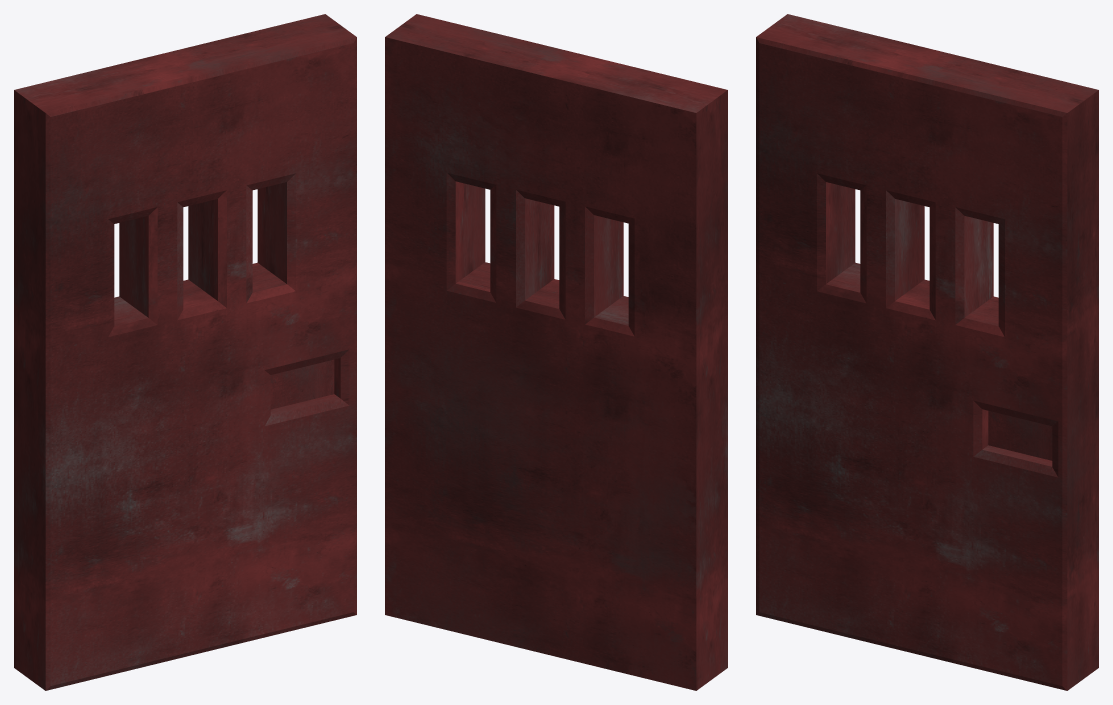
File: Dark_RedDoor.fbx
3 renders of one model, left to right at view 1: azimuth 30°, elevation 25°; view 2: azimuth 150°, elevation 25°; view 3: azimuth 330°, elevation 25°, orthographic.
Parts seen in each view (by area): view 1: Door; view 2: Door; view 3: Door.
Boxes of the visible parts, x1,y1,x2,y2 form: Door: (14,14,356,690); Door: (385,14,727,690); Door: (756,14,1098,690).
Size of the model in its own units: 127 by 226 by 22.9.
1 material, 1 textured.
